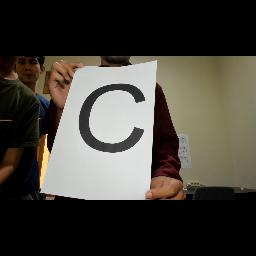c: (75, 80, 147, 156)
